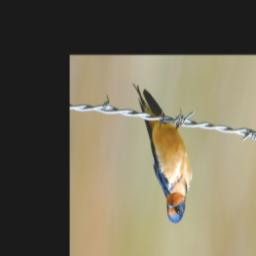Swallow: (133, 82, 193, 225)
